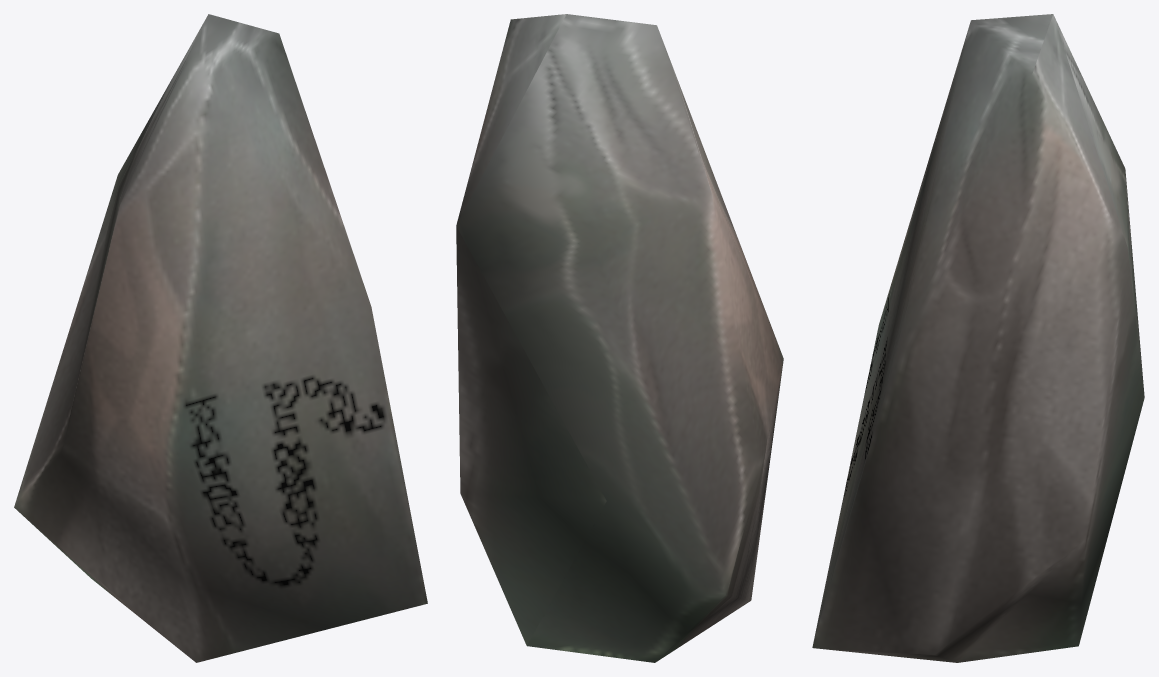
3 renders of one model, left to right at view 1: azimuth 30°, elevation 25°; view 2: azimuth 150°, elevation 25°; view 3: azimuth 270°, elevation 25°, orthographic. The views are drawn at different scales.
Parts seen in each view (by area): view 1: Մ.001; view 2: Մ.001; view 3: Մ.001.
Boxes of the visible parts, x1,y1,x2,y2 form: Մ.001: [14, 14, 427, 662]; Մ.001: [456, 14, 783, 662]; Մ.001: [812, 14, 1144, 662].
Bounding box in the file's own units: 77.56 × 146 × 70.94.
